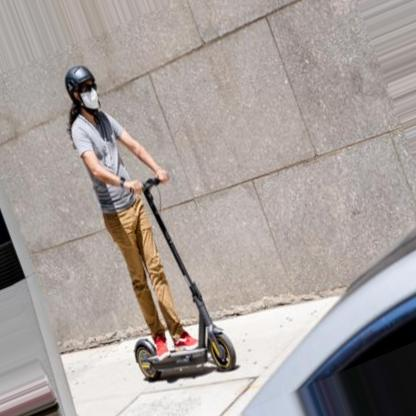scooter: (134, 175, 237, 384)
with helmet: (65, 64, 100, 113)
